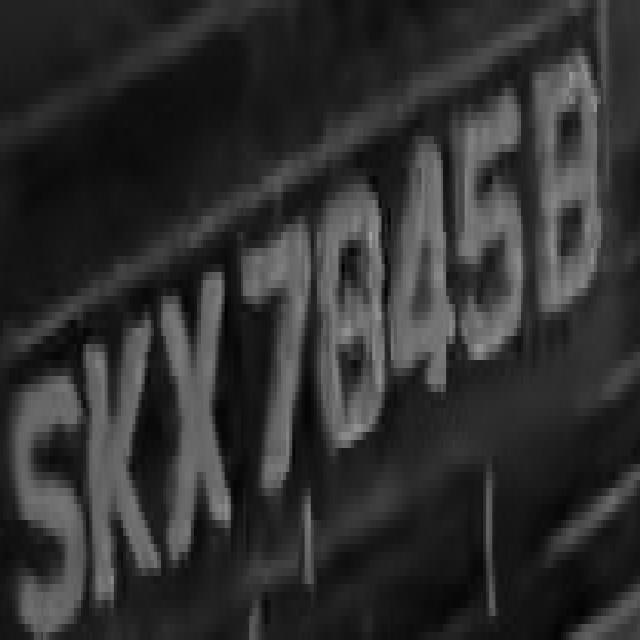4: (382, 128, 458, 416)
5: (443, 104, 526, 368)
7: (231, 216, 314, 520)
8: (308, 176, 390, 464)
B: (529, 48, 603, 328)
K: (80, 288, 160, 632)
S: (3, 336, 89, 640)
X: (151, 240, 243, 584)
